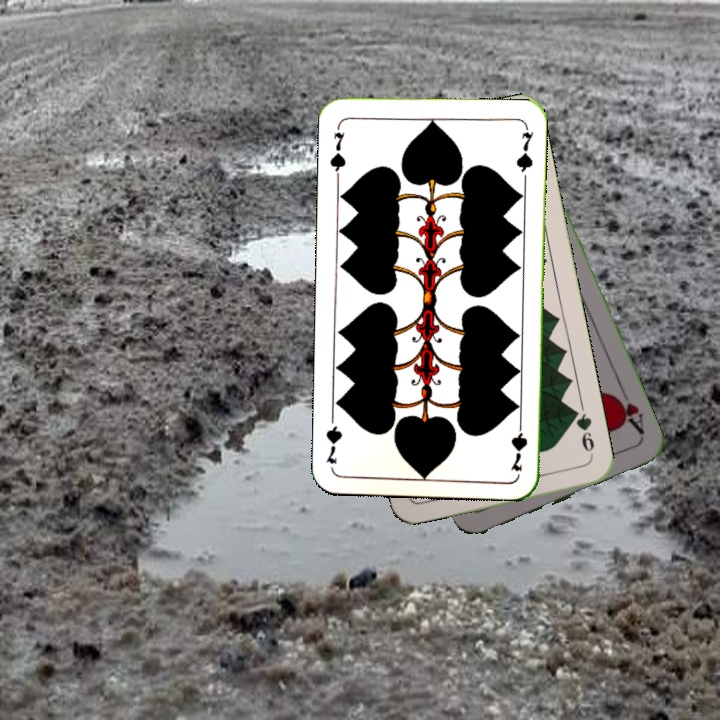G7: (507, 415, 530, 474), (326, 121, 349, 180)
G9: (568, 405, 597, 462)
HA: (609, 383, 647, 440)
